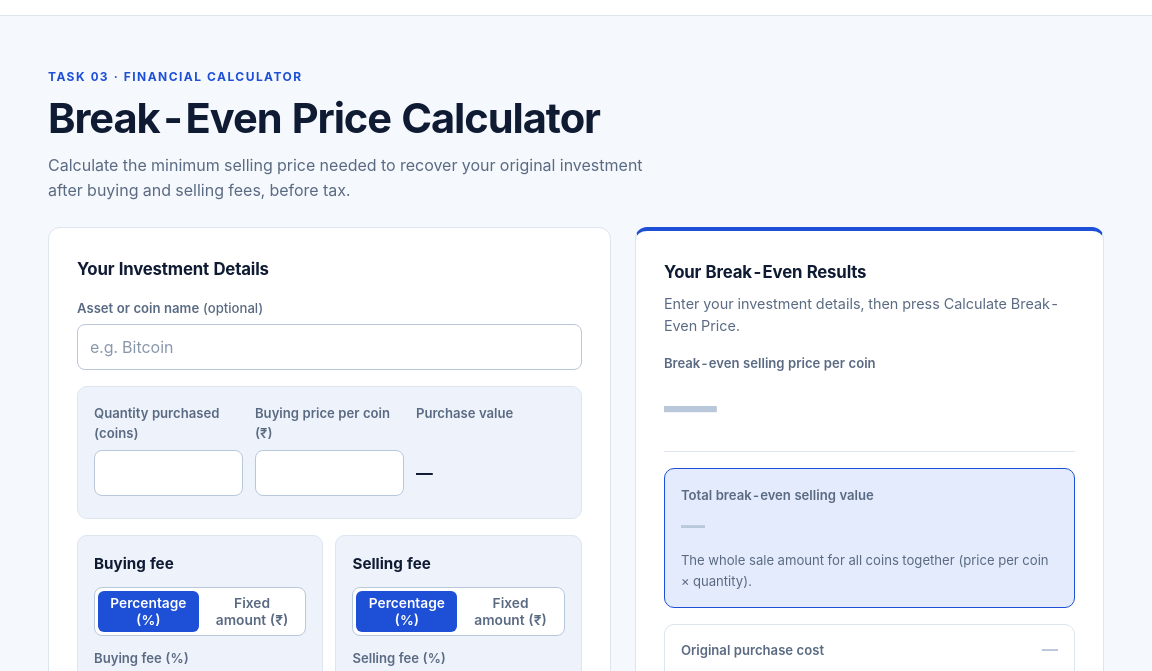
Test case: fee type selector › starts as Percentage and switches the label and the formula text
Check: the 1st radio button labelled "Percentage (%)" is checked, box [98,591,199,632]
Click the 2nd radio button labelled "Fixed amount (₹)" at [511, 612], box [474,595,547,628]
(page scrolled)
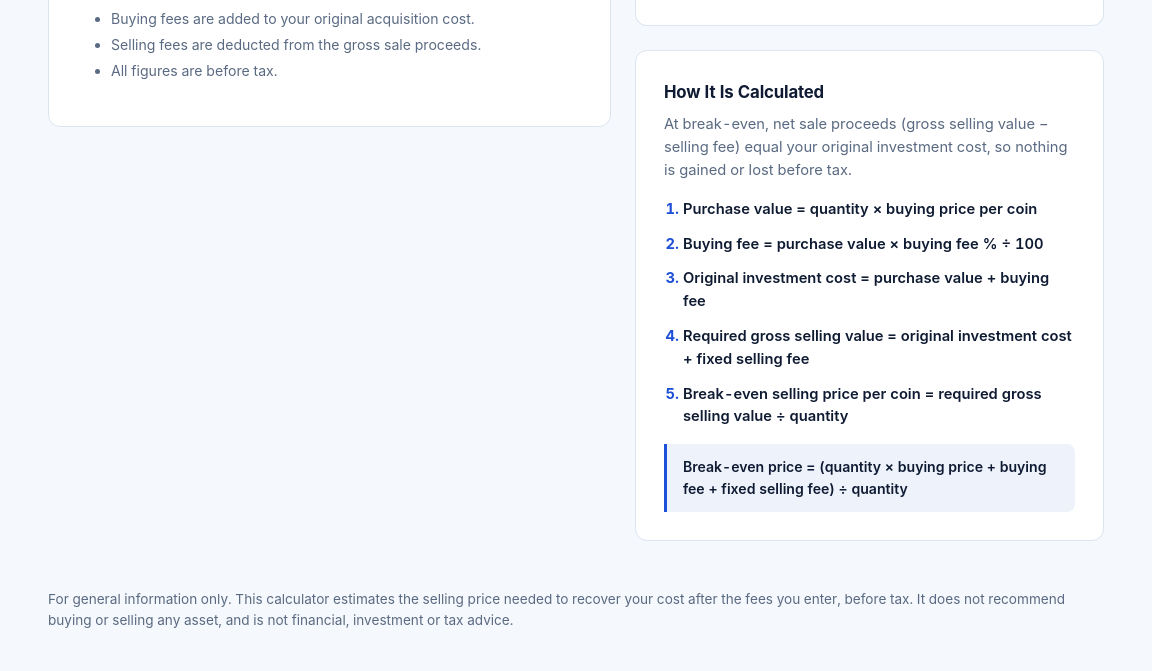
Check: the text "original investment cost + fixed selling fee" is shown, box [683,327,1072,368]
Check: the text "(quantity × buying price + buying fee + fixed selling fee) ÷ quantity" is shown, box [683,458,1046,497]
